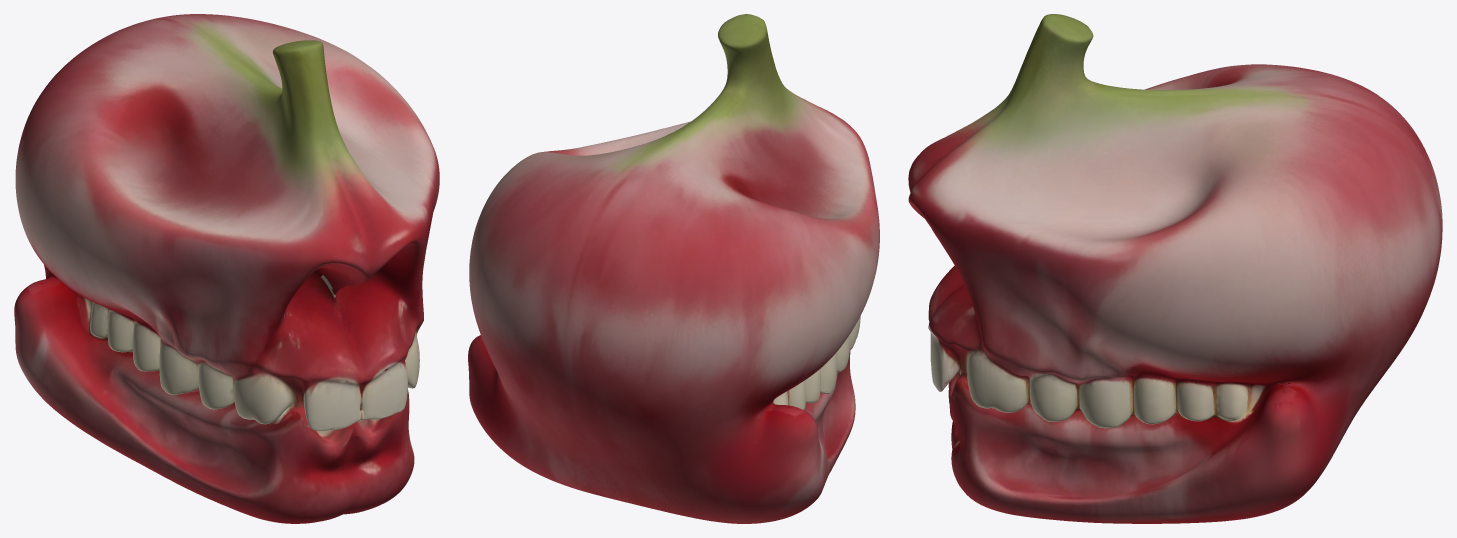
File: vet_v2_path_dental-disease.glb
3 renders of one model, left to right at view 1: azimuth 30°, elevation 25°; view 2: azimuth 150°, elevation 25°; view 3: azimuth 270°, elevation 25°, orthographic. The views are drawn at different scales.
Visible parts, largest first — view 1: model; view 2: model; view 3: model.
Part boxes in pixels (x1=…): model: x1=14, y1=14, x2=439, y2=523; model: x1=468, y1=14, x2=879, y2=523; model: x1=908, y1=14, x2=1442, y2=523.
Bounding box in the file's own units: 1.52 × 1.84 × 1.9.
Materials: 1 (1 with a texture image).
